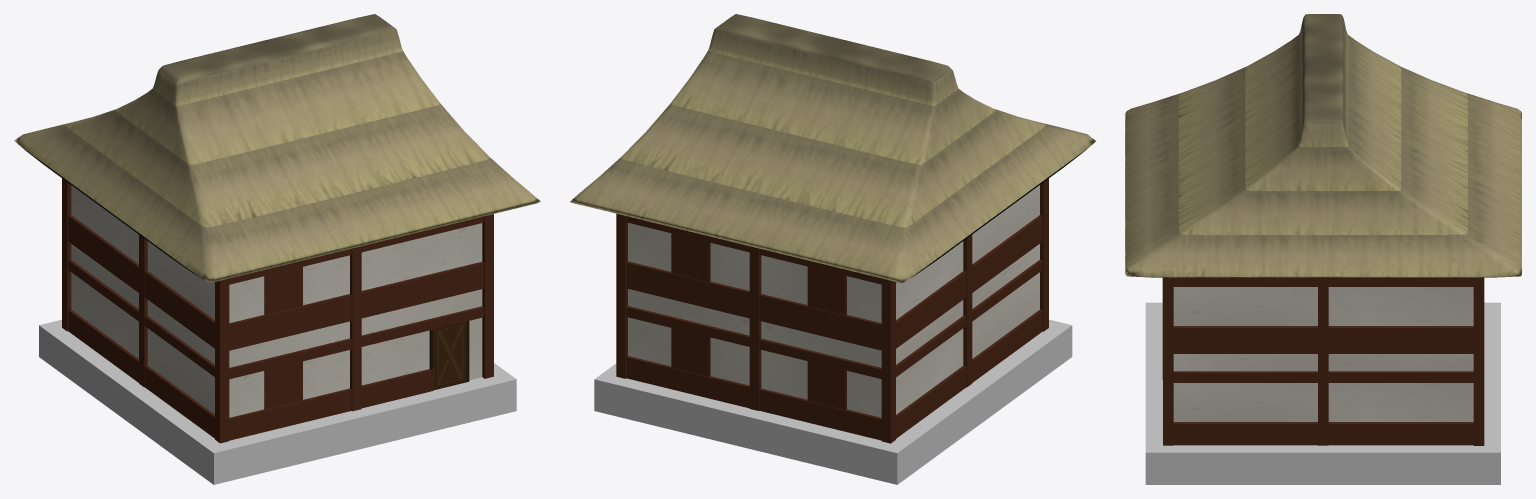
File: building2_fixed.fbx
3 renders of one model, left to right at view 1: azimuth 30°, elevation 25°; view 2: azimuth 150°, elevation 25°; view 3: azimuth 270°, elevation 25°, orthographic.
Visible parts, largest first — view 1: Cube.001; view 2: Cube.001; view 3: Cube.001.
Boxes of the visible parts, x1,y1,x2,y2 form: Cube.001: (14,14,540,484); Cube.001: (570,14,1096,484); Cube.001: (1125,14,1521,484).
Bounding box in the file's own units: 2216 × 2135 × 2234.
